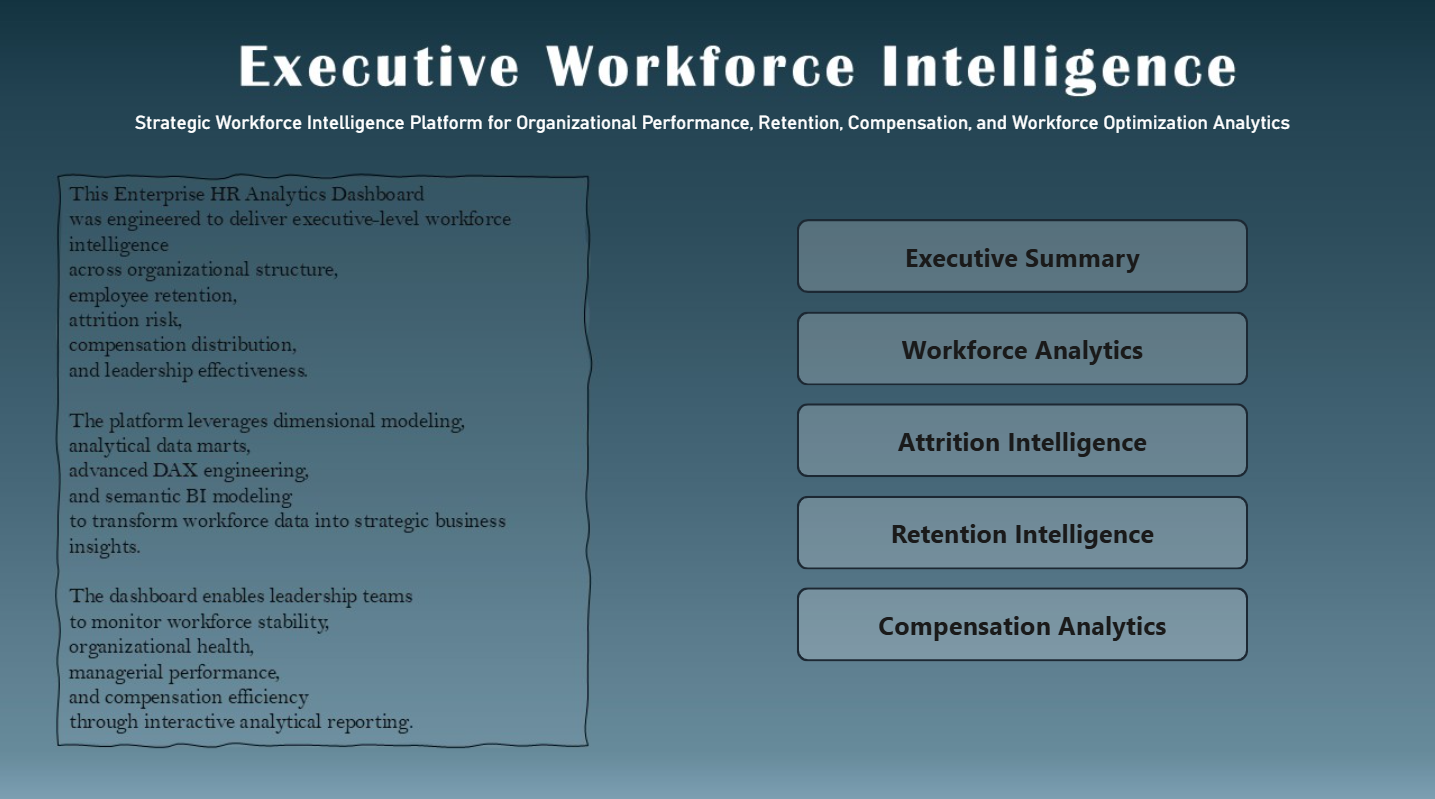

The page's visual inventory and layout, read from the dashboard file:
{"tool":"powerbi","page":{"name":"Home","canvas":[1280,720],"ordinal":0},"visuals":[{"type":"pageNavigator","box":[711.7,200.1,402.9,394.8],"z":0},{"type":"textbox","box":[116.8,99.4,1047.4,29.5],"z":1000}]}

Visuals, with their boxes in screenshot pixels (x1, y1, x2, y2), scaled from the page's 1280x720 canvas onto the 1435x799 screenshot:
pageNavigator: left=798, top=222, right=1250, bottom=660
textbox: left=131, top=110, right=1305, bottom=143
